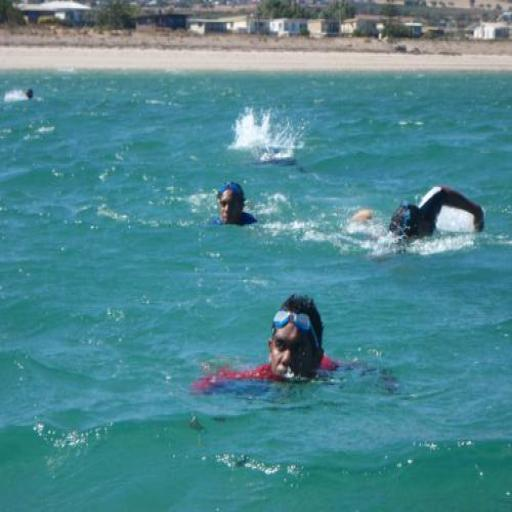swimming: (347, 182, 487, 252), (208, 178, 259, 230)
